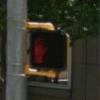traffic lights: (27, 27, 70, 71)
